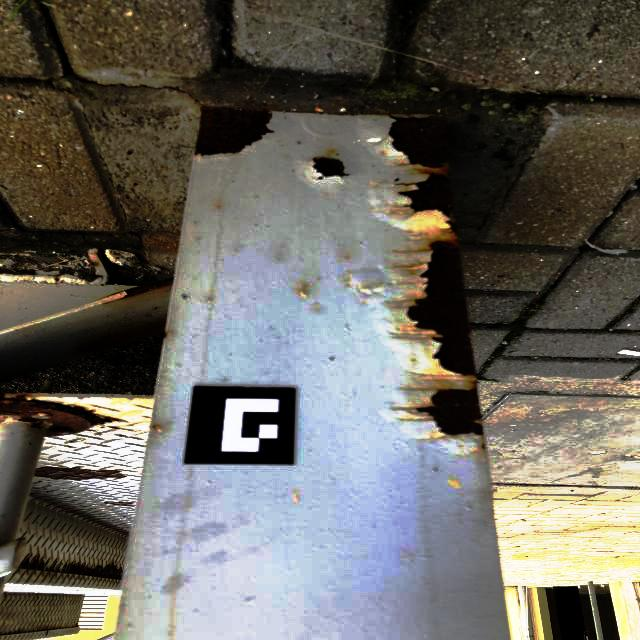Corrosion: (392, 234, 475, 376), (388, 114, 457, 237), (394, 381, 486, 456), (0, 392, 122, 437), (195, 105, 275, 156), (73, 313, 167, 355), (95, 277, 173, 305), (46, 558, 123, 580), (34, 466, 127, 481), (410, 373, 477, 392), (312, 157, 349, 180), (28, 554, 45, 569), (88, 249, 103, 261), (102, 501, 135, 506), (298, 284, 308, 297), (19, 557, 29, 568), (151, 423, 162, 433), (52, 275, 60, 285), (91, 260, 101, 268), (163, 332, 171, 340), (22, 394, 32, 398), (69, 439, 79, 443), (8, 631, 17, 634), (2, 415, 8, 419), (95, 433, 101, 436), (46, 630, 49, 635), (17, 630, 21, 633), (68, 446, 73, 448), (23, 280, 26, 282), (4, 633, 7, 635)
